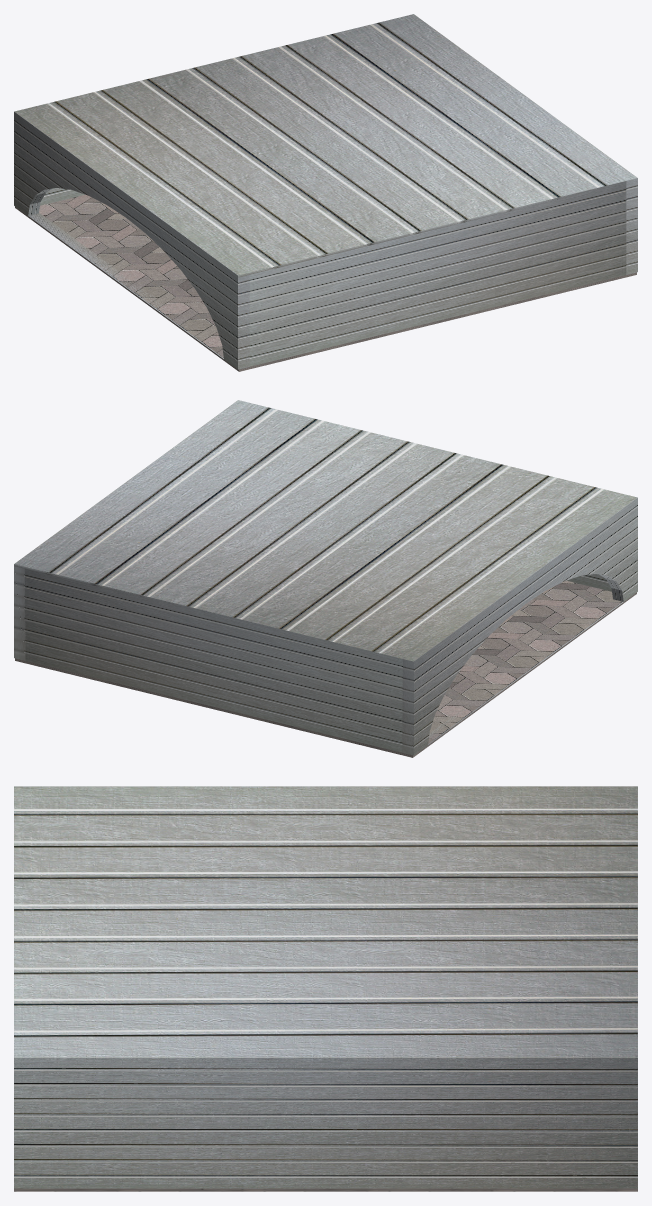
Rendered from StorageRoom.fbx.
3 renders of one model, top to bottom at view 1: azimuth 30°, elevation 25°; view 2: azimuth 150°, elevation 25°; view 3: azimuth 270°, elevation 25°, orthographic. The views are drawn at different scales.
Parts seen in each view (by area): view 1: Wall.002, Wall.006, Wall.004, Wall.005, Wall.007; view 2: Wall.002, Wall.001, Wall.004, Wall.005, Wall.007; view 3: Wall.002, Wall.007, Wall.005.
Boxes of the visible parts, x1=… form: Wall.002: x1=14, y1=14, x2=637, y2=277; Wall.006: x1=249, y1=181, x2=626, y2=366; Wall.004: x1=14, y1=111, x2=249, y2=369; Wall.005: x1=15, y1=194, x2=636, y2=371; Wall.007: x1=415, y1=15, x2=637, y2=274; Wall.002: x1=14, y1=400, x2=637, y2=661; Wall.001: x1=24, y1=569, x2=403, y2=752; Wall.004: x1=402, y1=497, x2=637, y2=755; Wall.005: x1=15, y1=580, x2=636, y2=757; Wall.007: x1=14, y1=401, x2=236, y2=660; Wall.002: x1=14, y1=786, x2=637, y2=1057; Wall.007: x1=14, y1=1057, x2=637, y2=1188; Wall.005: x1=14, y1=1188, x2=637, y2=1191.
Size of the model in its own units: 41.2 by 9.51 by 40.
